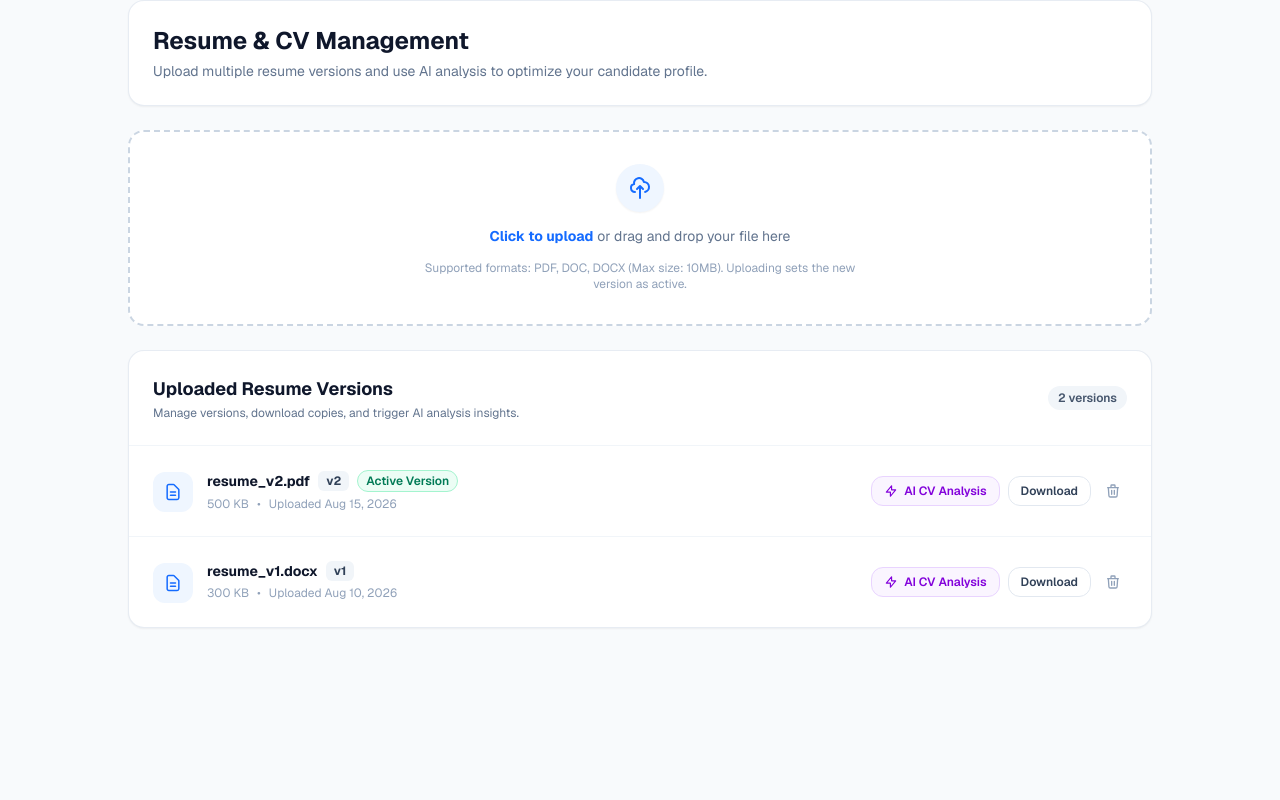
Test: SeekerResumesPage Component › displays deletion lock error if resume is referenced by an active job application
The width and height of the screenshot is (1280, 800).
Expected: the heading "resume_v2.pdf" is shown, [207,471,310,491]
Click the button named "Delete resume" in the row of "Active Version" at (1113, 491), box [1099,477,1127,505]
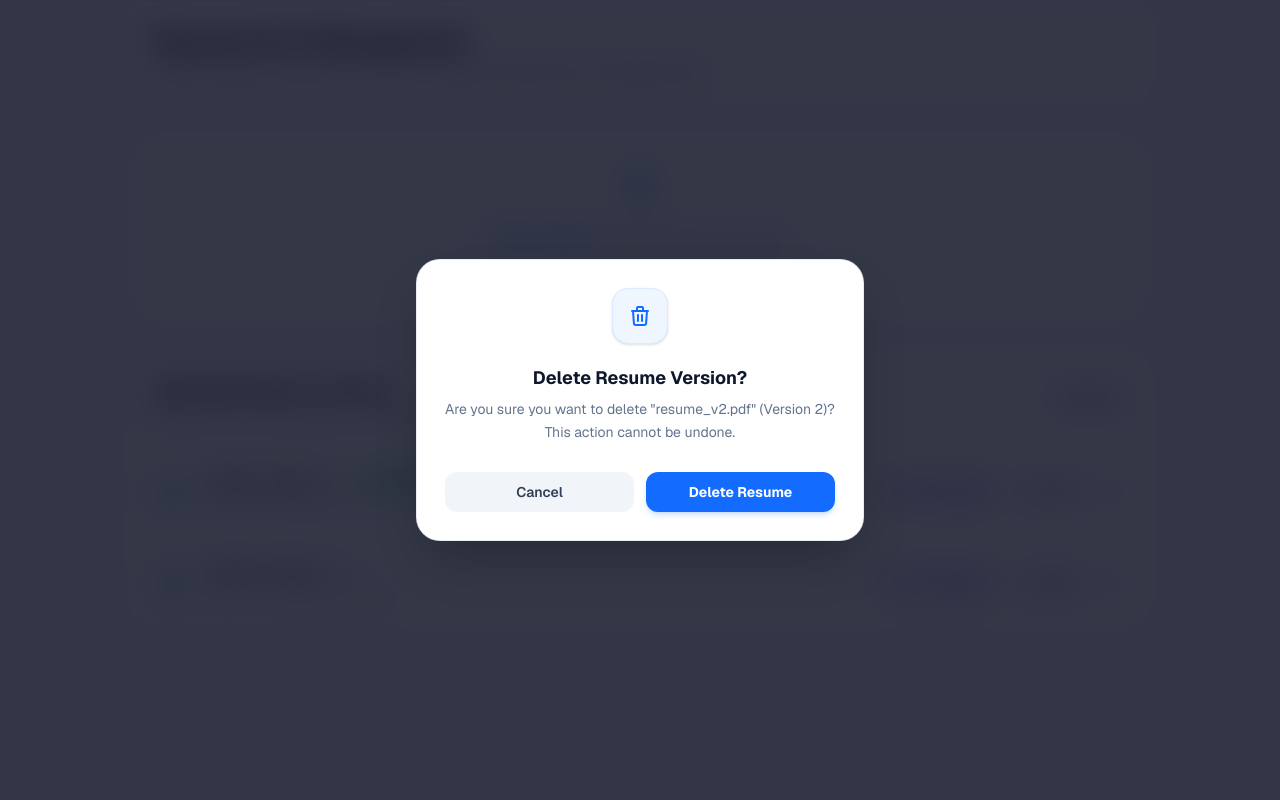
Click the button with test id "modal-confirm-button" at (740, 492), box [646,472,835,512]
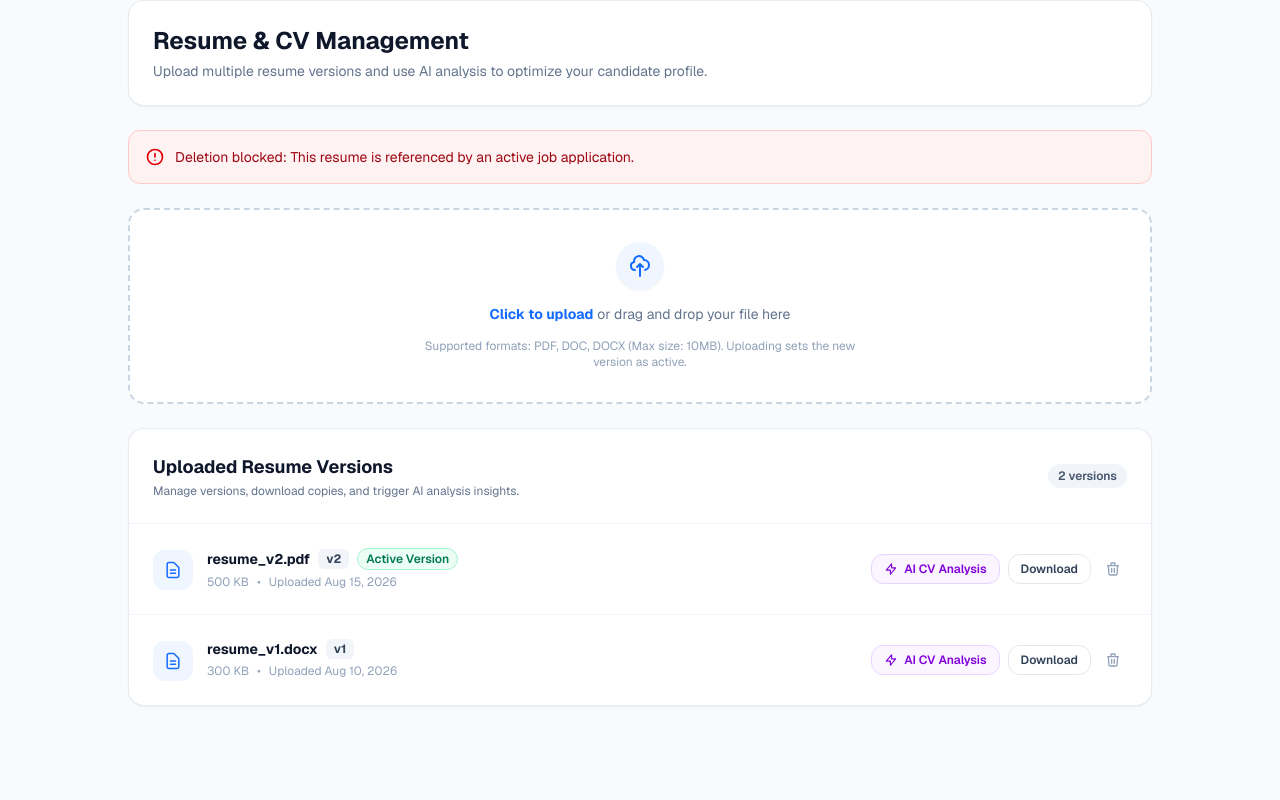
Expected: the text "Deletion blocked: This resume is referenced by an active job application" is shown, [175,148,634,166]
